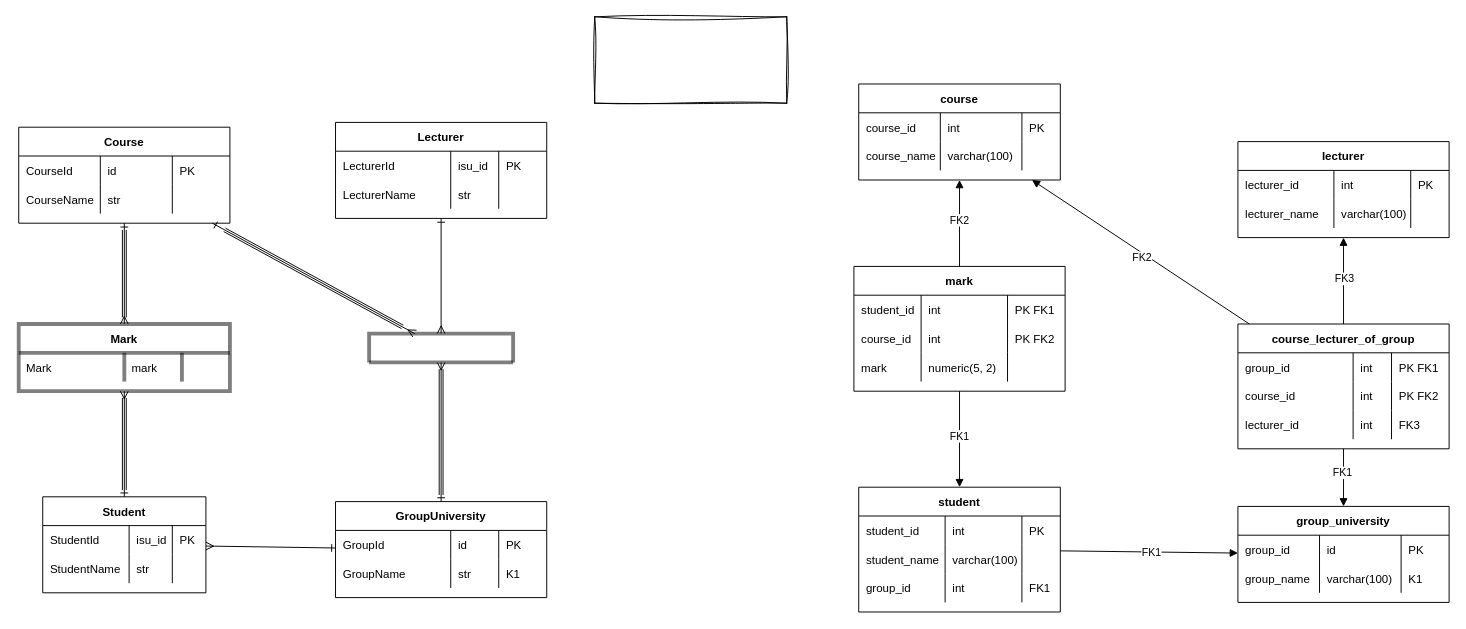
Image size: 1466x629. Some labels were removed from this diagram. The shapes that lost their labels are listed below. From the top down, each one's centre as x and y in pixels, then its label:
point (690, 59): По-умолчанию: Связь: одна необязательна Атрибуты: обязательны (M)
point (441, 347): CourseLecturerOfGroup
